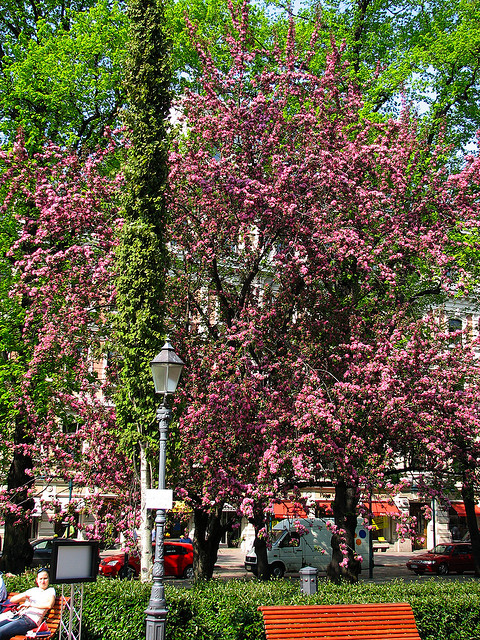Car: (404, 540, 480, 574)
Person: (15, 572, 69, 620)
Van: (246, 518, 381, 577)
